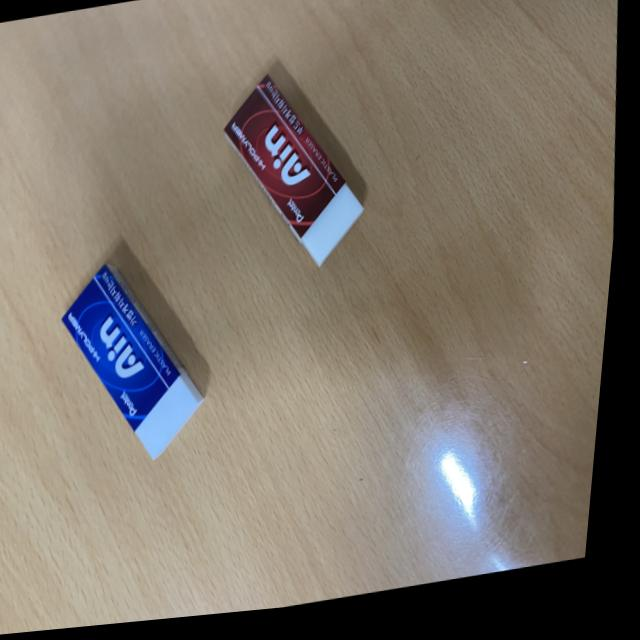blue: (48, 241, 233, 480)
red: (209, 58, 388, 293)
